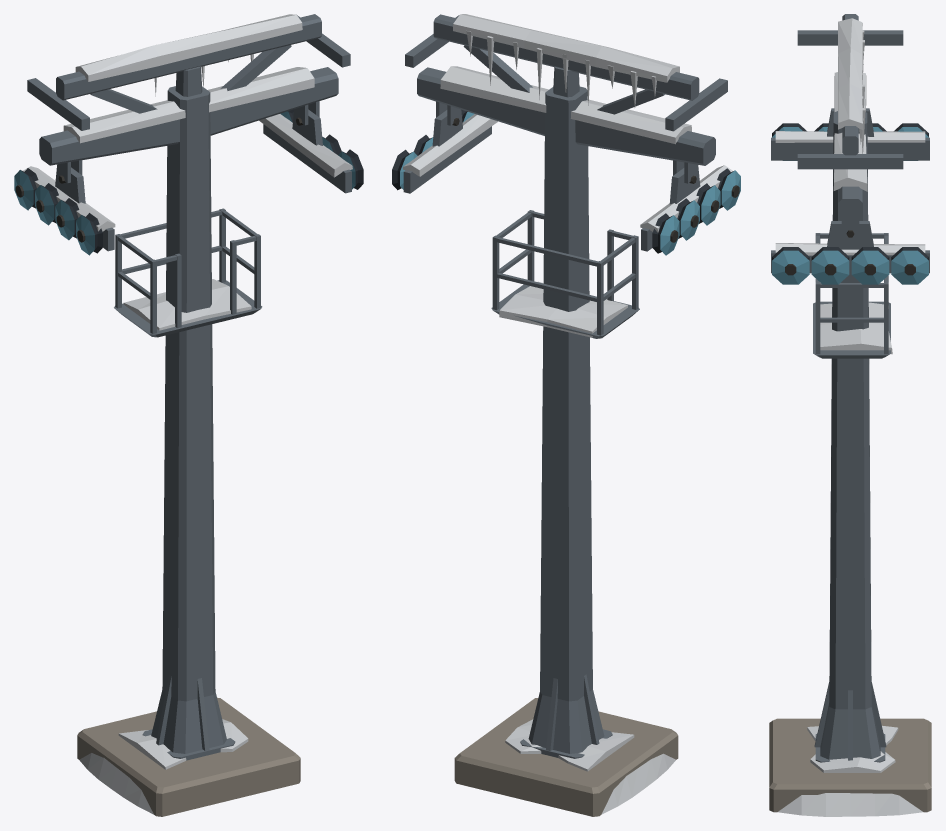
Rendered from lift-pylon-no-sign-v03.glb.
3 renders of one model, left to right at view 1: azimuth 30°, elevation 25°; view 2: azimuth 150°, elevation 25°; view 3: azimuth 270°, elevation 25°, orthographic. The views are drawn at different scales.
Visible parts, largest first — view 1: pylon, train-r-beam, sheave-mesh (×4), train-l-beam; view 2: pylon, train-r-beam, sheave-mesh (×4), train-l-beam; view 3: pylon, sheave-mesh (×4), train-l-beam, train-r-beam.
Part boxes in pixels (x1,y1,x2,y2): pylon: (27, 14, 350, 816); train-r-beam: (259, 109, 352, 193); sheave-mesh (×4): (14, 168, 102, 255); train-l-beam: (23, 164, 115, 251); pylon: (405, 14, 727, 816); train-r-beam: (403, 109, 497, 193); sheave-mesh (×4): (652, 168, 740, 255); train-l-beam: (640, 164, 732, 251); pylon: (769, 14, 931, 816); sheave-mesh (×4): (772, 247, 928, 284); train-l-beam: (771, 108, 929, 160); train-r-beam: (771, 221, 929, 273).
Size of the model in its own units: 3.96 by 9.68 by 2.
